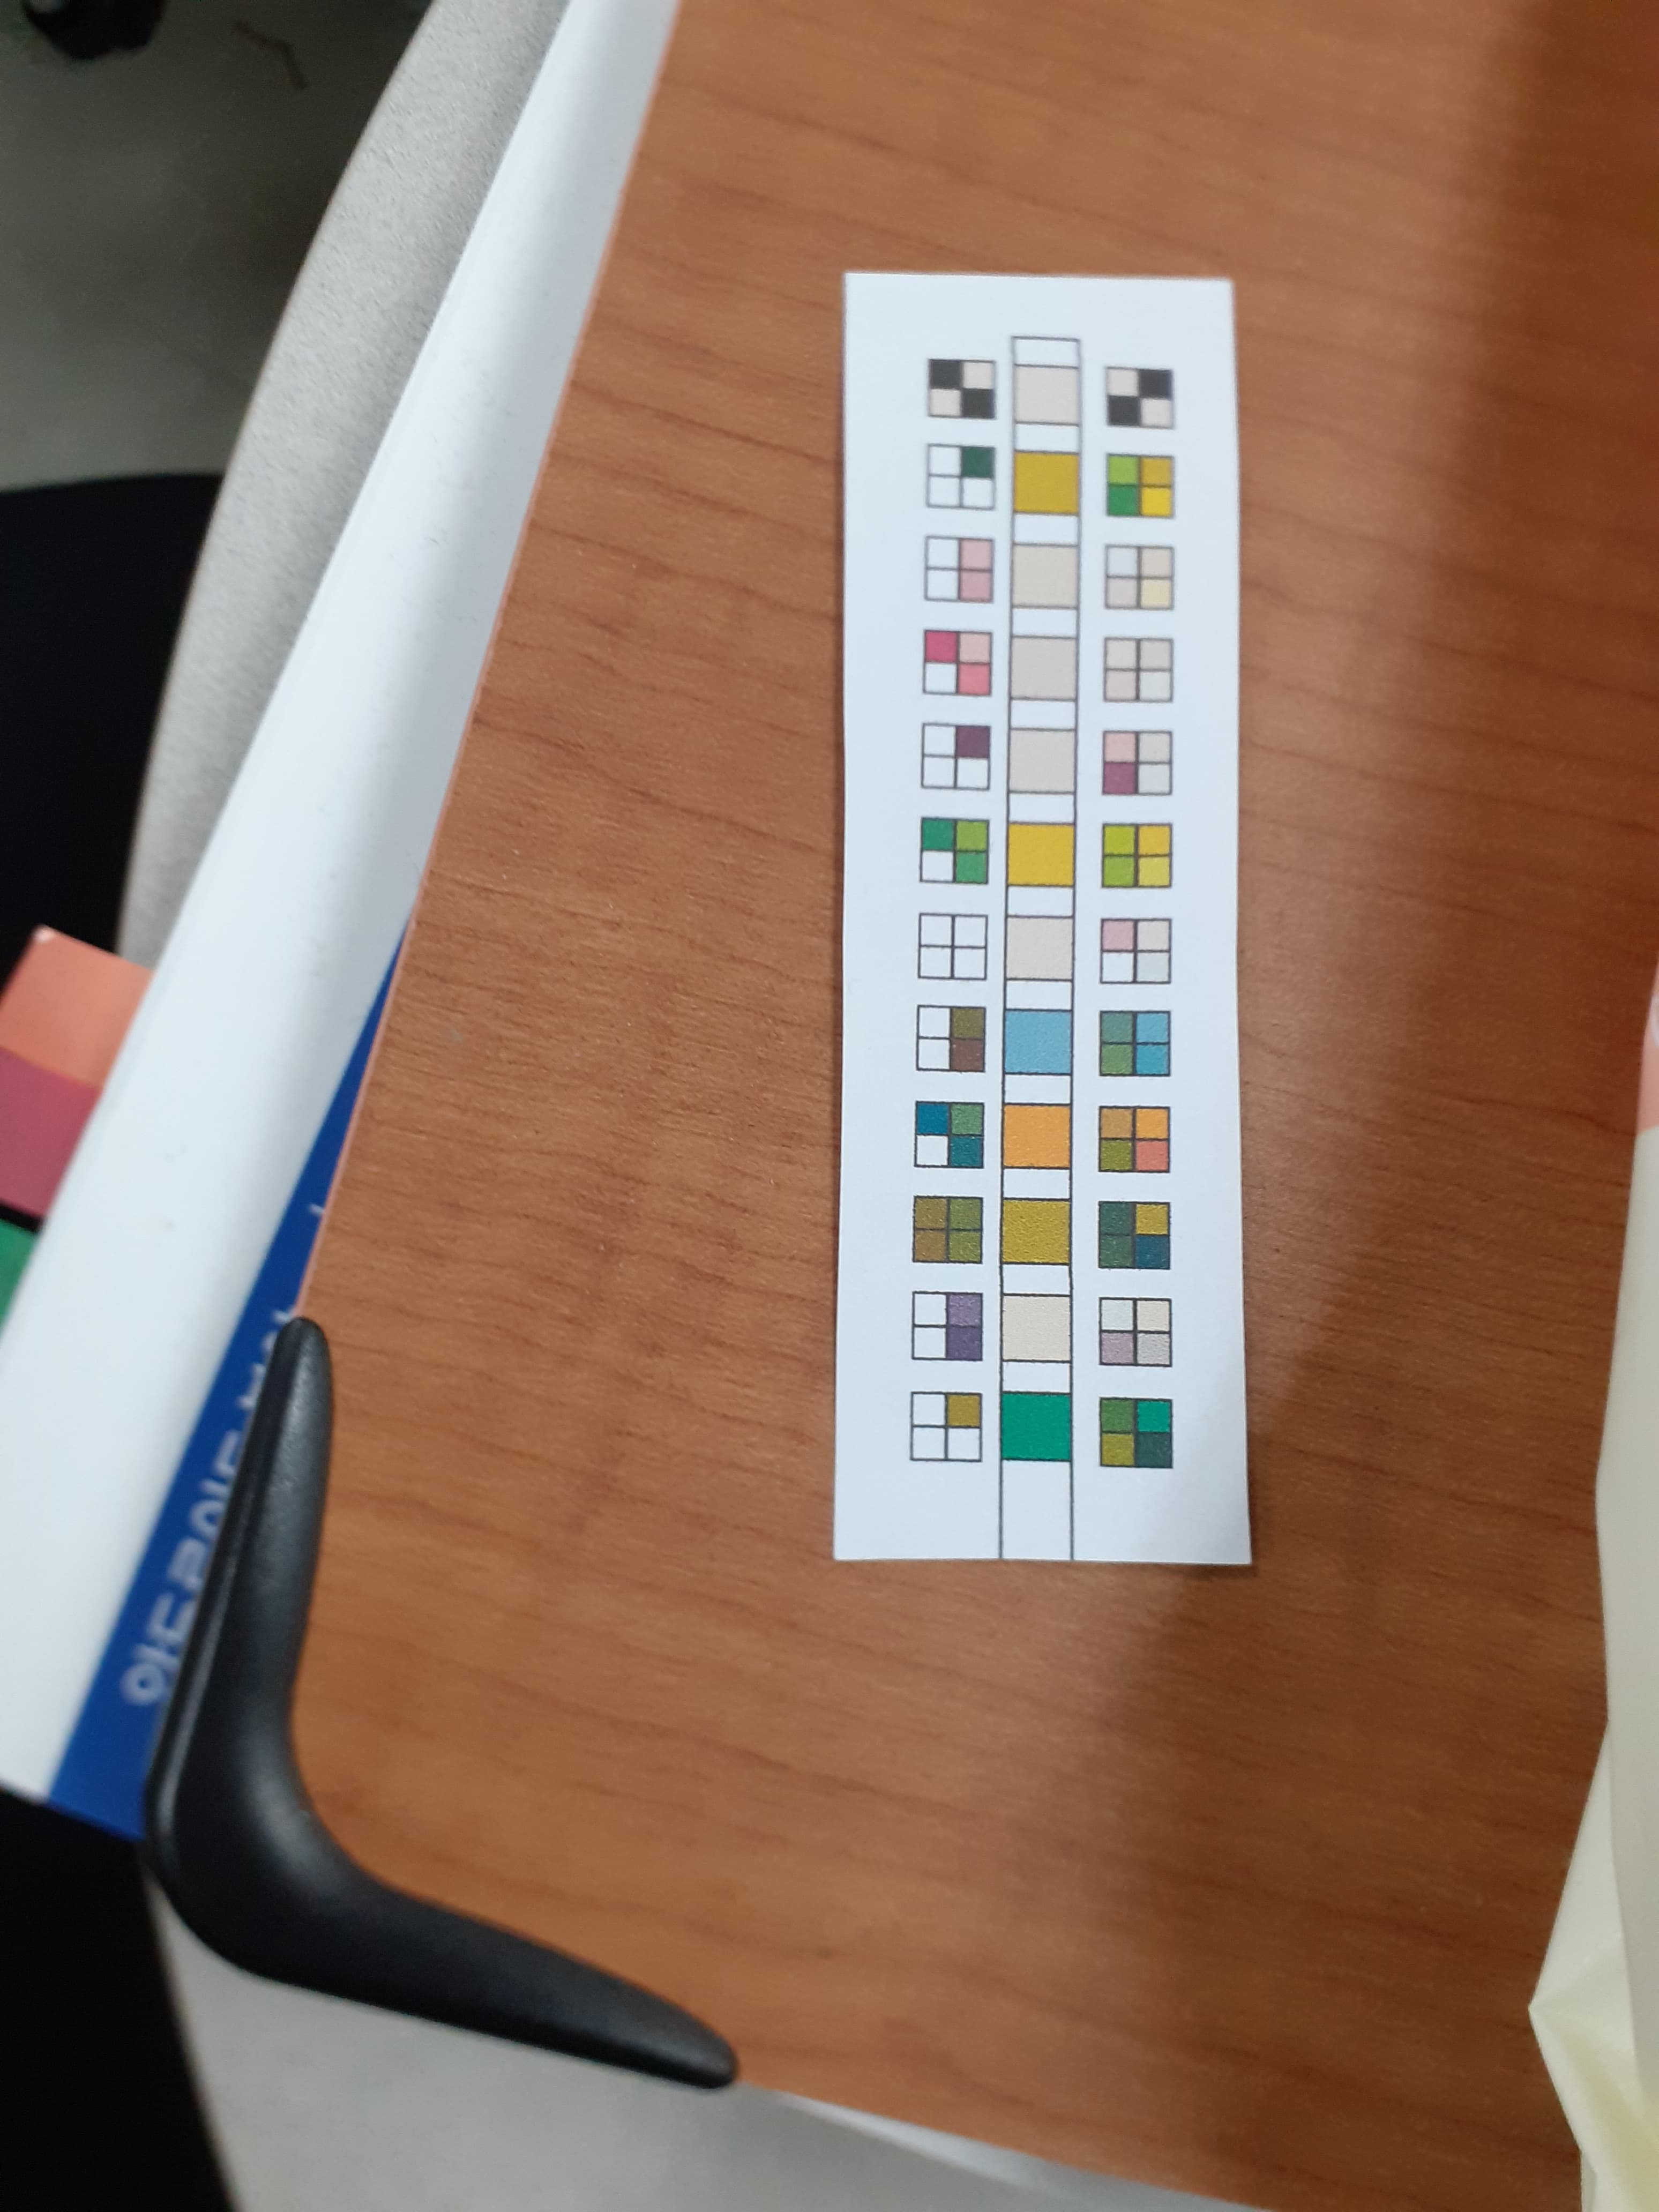tester: (840, 273, 1248, 1568)
